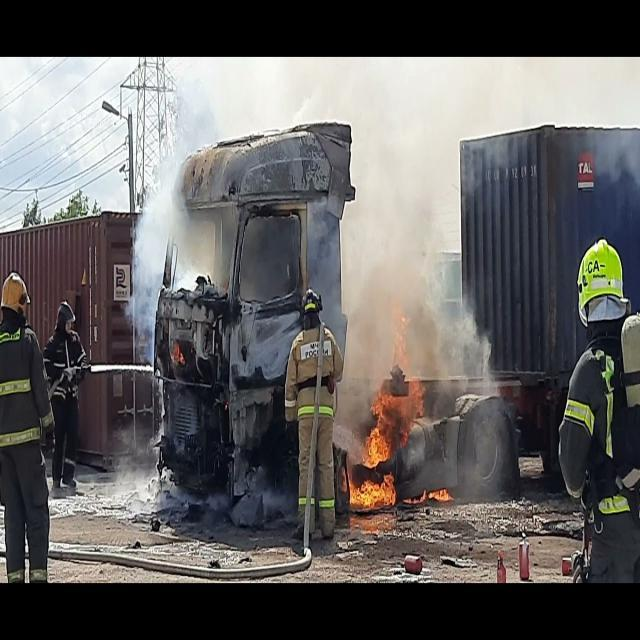Fire: (361, 311, 424, 468), (348, 470, 395, 508), (402, 488, 454, 506)
Smoke: (132, 52, 508, 504)
